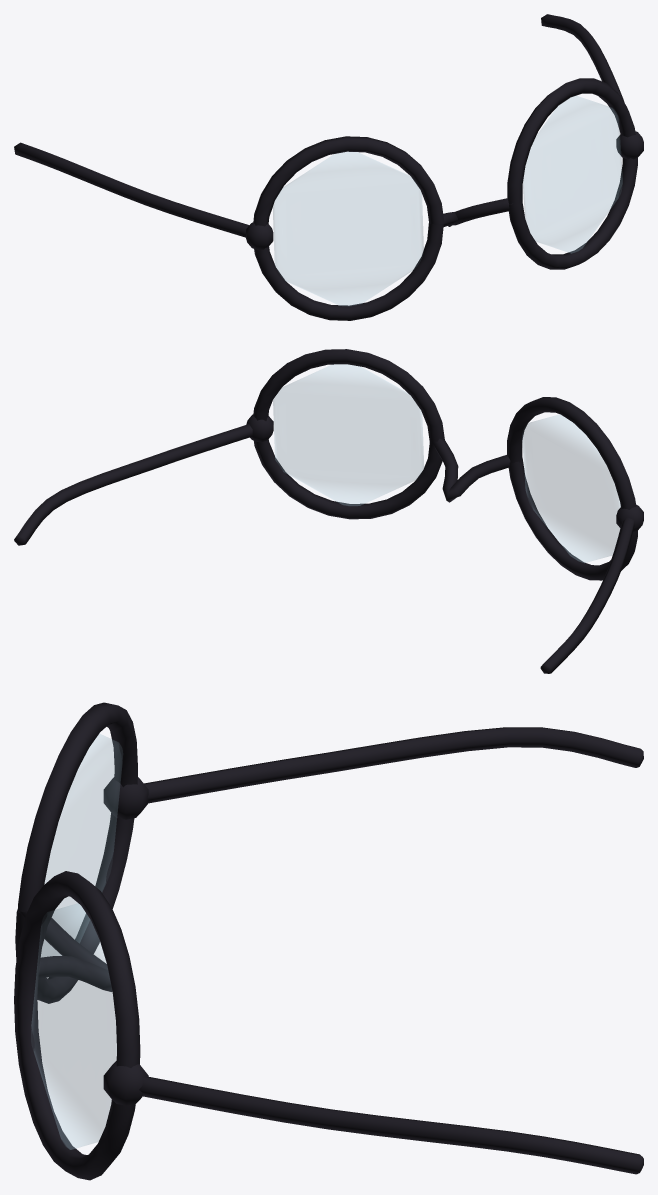
The model's file is acc_glasses.glb.
3 views of the same model, one above another, from view 1: azimuth 30°, elevation 25°; view 2: azimuth 150°, elevation 25°; view 3: azimuth 270°, elevation 25° (orthographic). The views are drawn at different scales.
Parts seen in each view (by area): view 1: AccGlasses; view 2: AccGlasses; view 3: AccGlasses.
Part boxes in pixels (x1,y1,x2,y2): AccGlasses: (14,14,643,320); AccGlasses: (14,349,643,673); AccGlasses: (14,702,643,1180).
Size of the model in its own units: 0.5008 by 0.1564 by 0.3184.
